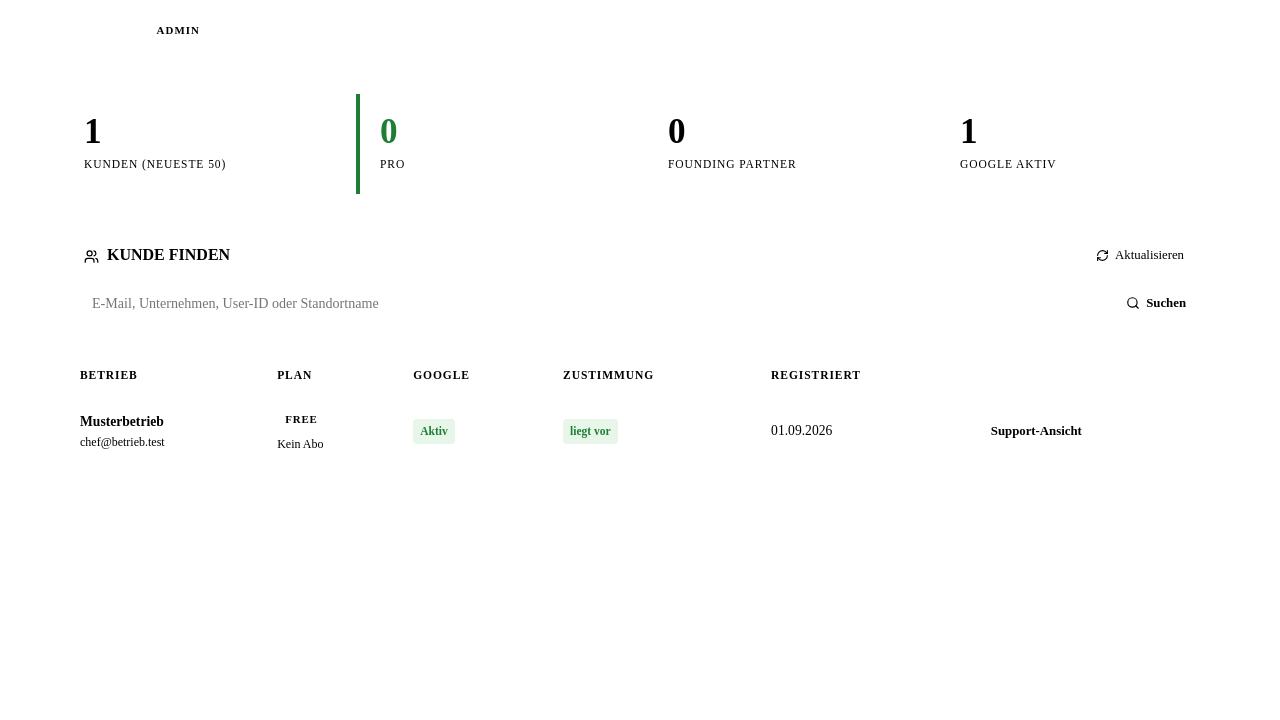
Test: Support-Ansicht (§6, §30) › sagt bei fehlendem Datenstand nicht "alles gut" (§31)
The image size is (1280, 720).
Click the button "Support-Ansicht" at [1036, 431], box x1=977 y1=414 x2=1096 y2=449
(page scrolled)
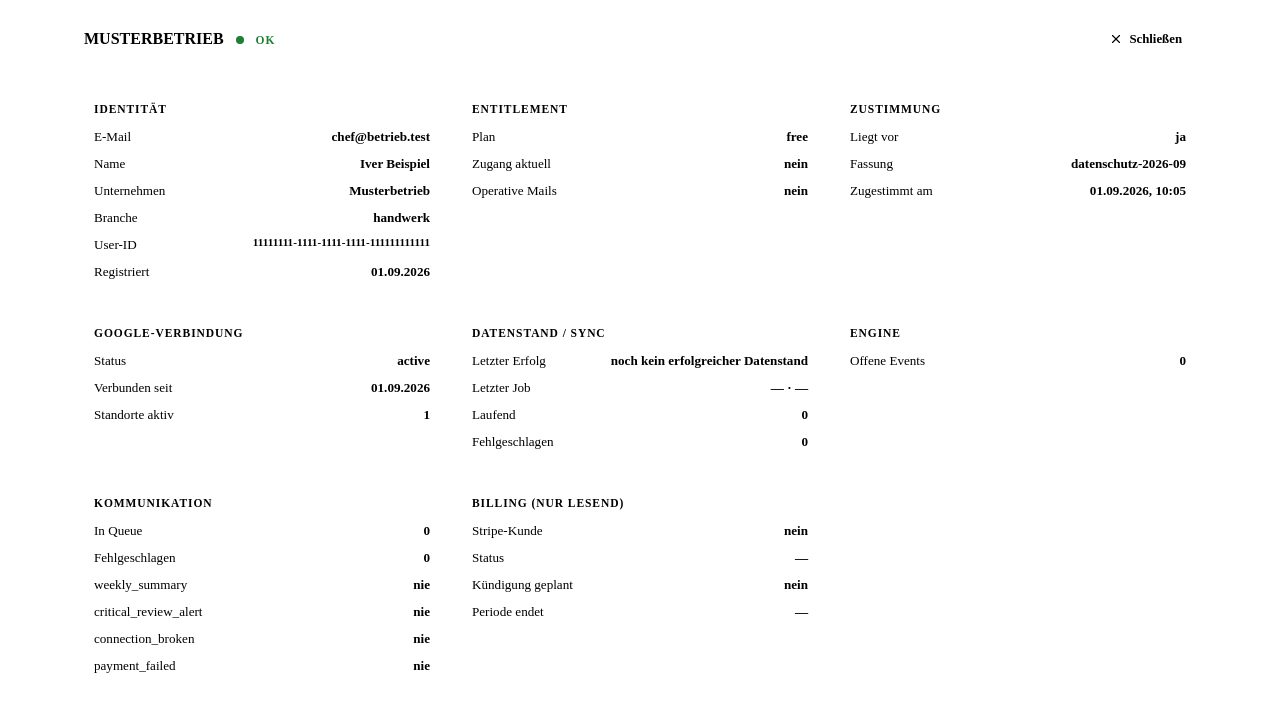
Expected: the text "noch kein erfolgreicher Datenstand" is shown, x1=611 y1=350 x2=808 y2=371
